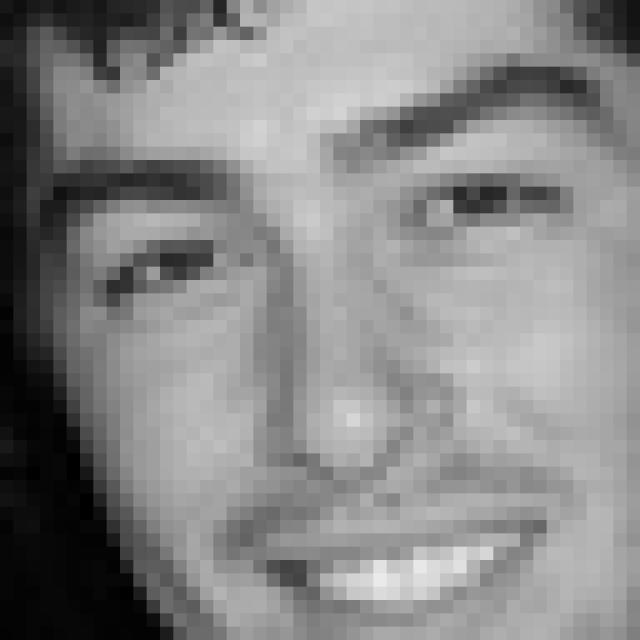happy: (51, 59, 610, 640)
